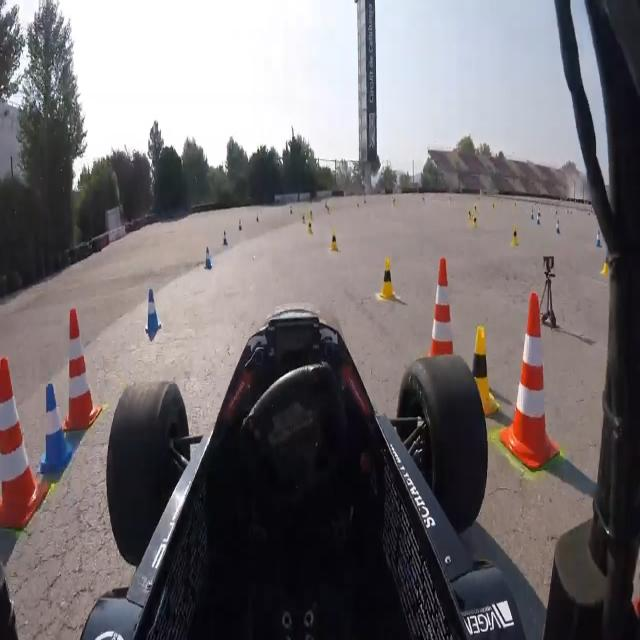blue_cone: (41, 382, 71, 478), (145, 286, 162, 332), (204, 244, 212, 270), (595, 229, 602, 248), (222, 230, 228, 247), (555, 220, 562, 234), (238, 220, 242, 233), (536, 214, 540, 227), (256, 211, 260, 222), (530, 209, 534, 220), (289, 204, 293, 215), (538, 206, 540, 217)
large_orange_cone: (496, 292, 562, 474), (0, 352, 43, 541), (424, 258, 460, 390), (65, 303, 100, 437)
yellow_cone: (463, 321, 498, 414), (377, 258, 396, 302), (600, 248, 610, 278), (329, 228, 340, 254), (510, 226, 519, 247), (308, 220, 313, 236), (473, 214, 478, 230), (468, 208, 472, 222), (309, 208, 313, 220), (474, 204, 478, 215), (302, 213, 305, 224), (327, 206, 331, 214), (492, 202, 495, 212)
